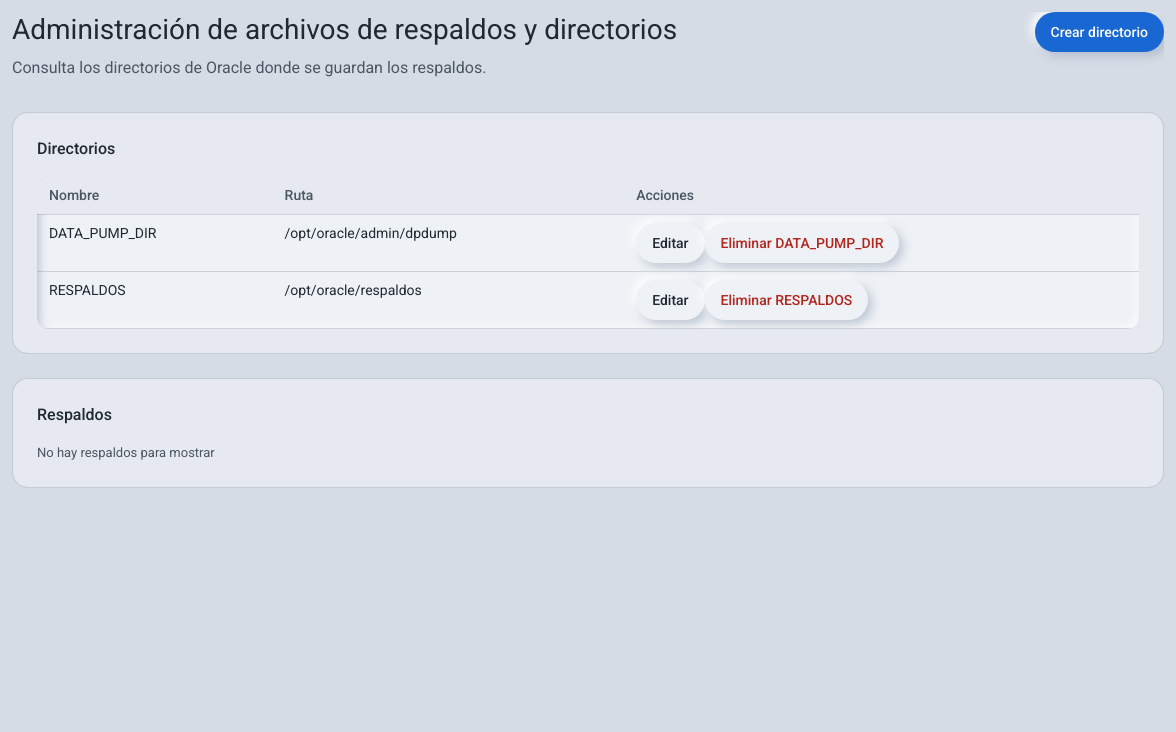
it: crear directorio › si se crea informa «Directorio X creado» y recarga la lista
Expected: the text "RESPALDOS" is shown, [37,272,273,328]
Click the button "Crear directorio" at (1099, 32), box [1035,12,1164,52]
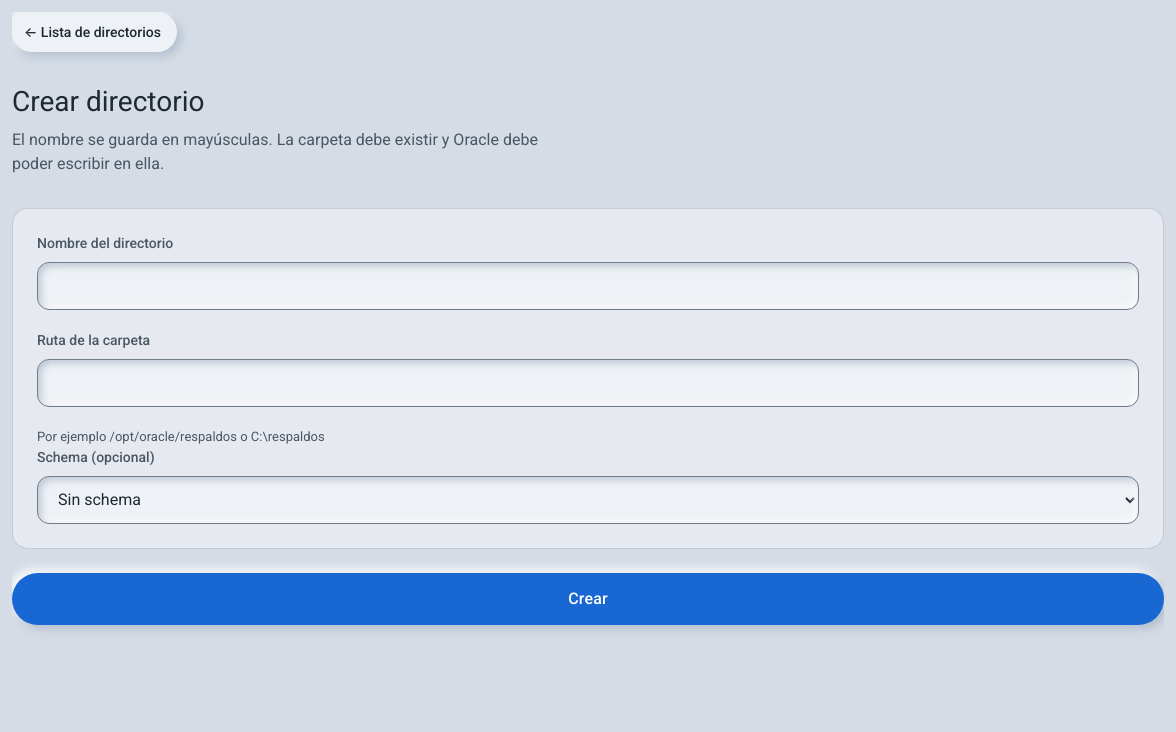
Type "nuevo" into the field labelled "Nombre del directorio" at (588, 286), box [37,262,1139,310]
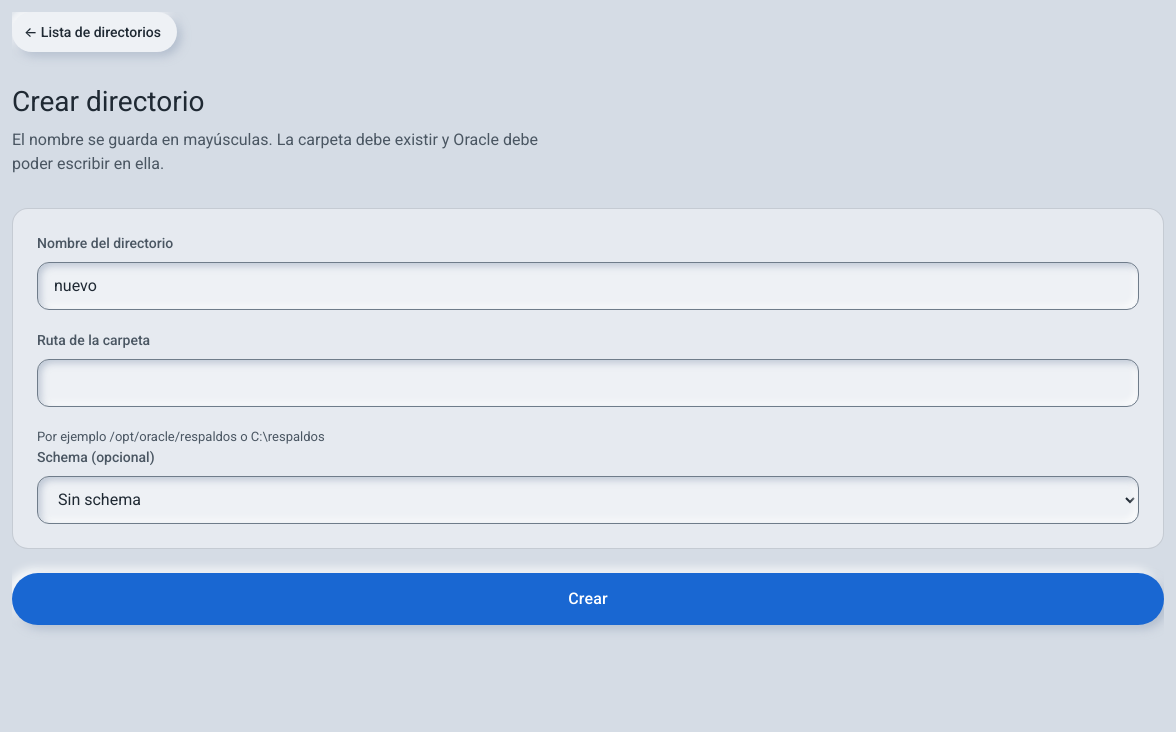
Type "/opt/oracle/nuevo" into the field labelled "Ruta de la carpeta" at (588, 383), box [37,359,1139,407]
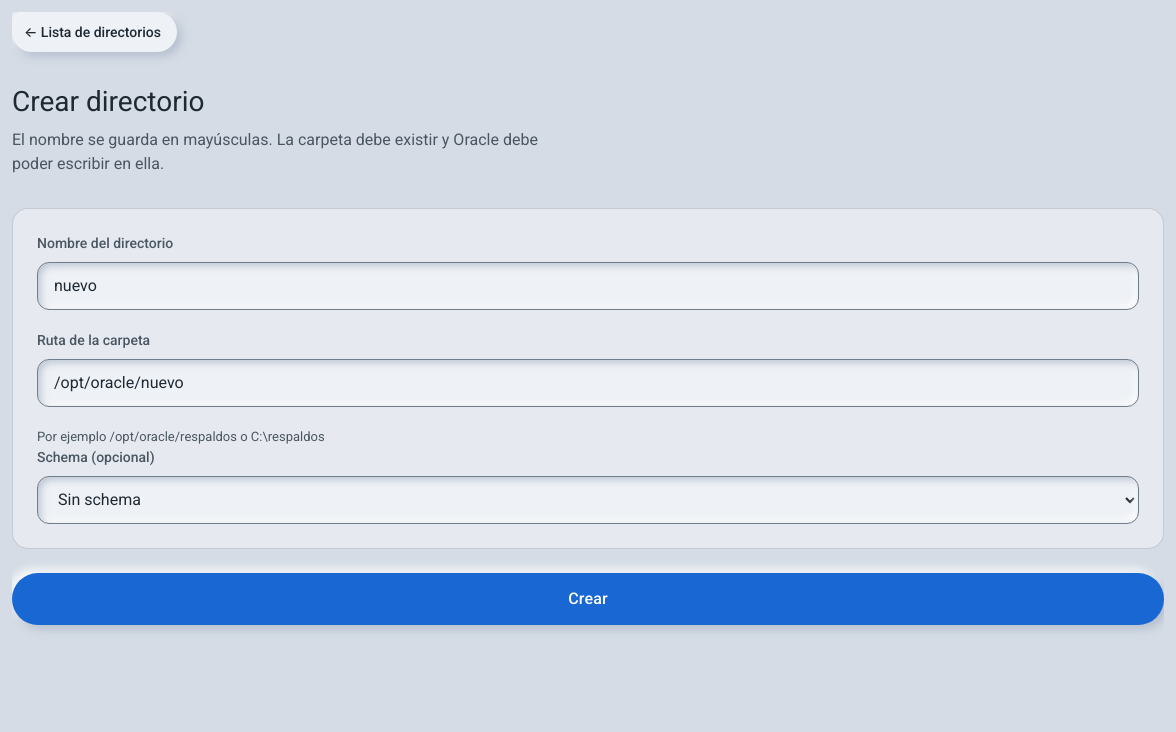
Click the button "Crear" at (588, 598), box [12,572,1164,624]
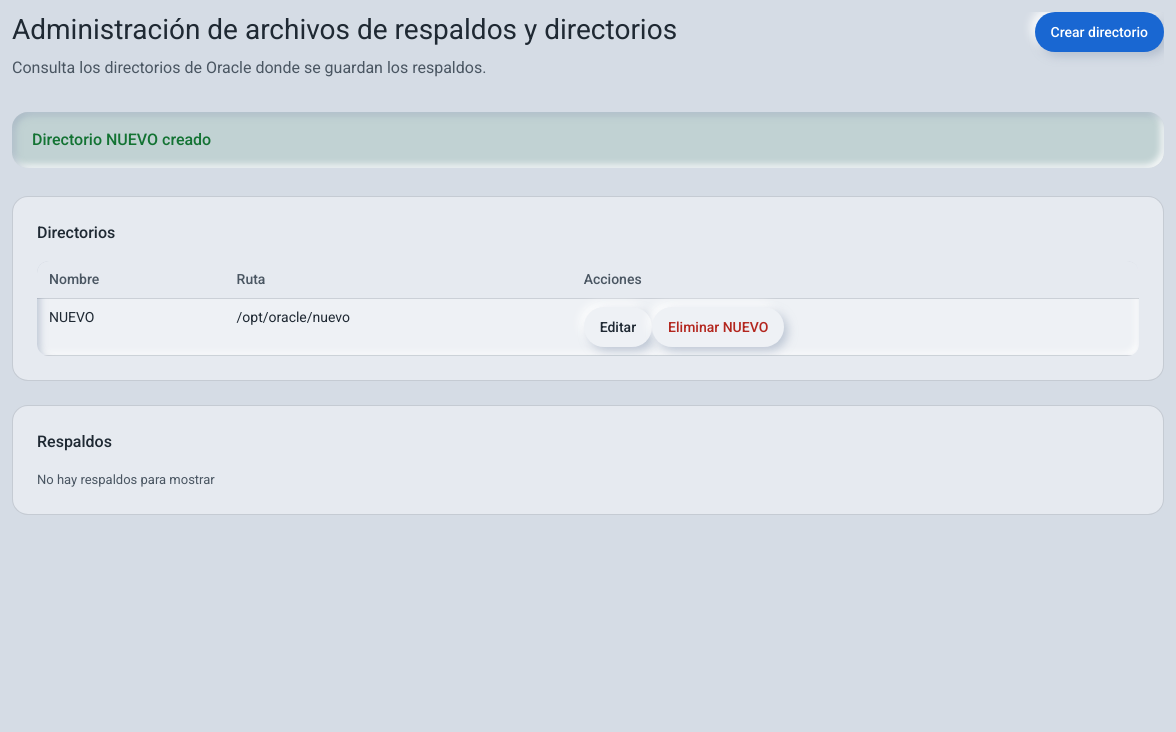
Expected: the message reads "Directorio NUEVO creado", [32,130,211,149]
Expected: the text "/opt/oracle/nuevo" is shown, [225,298,572,356]
